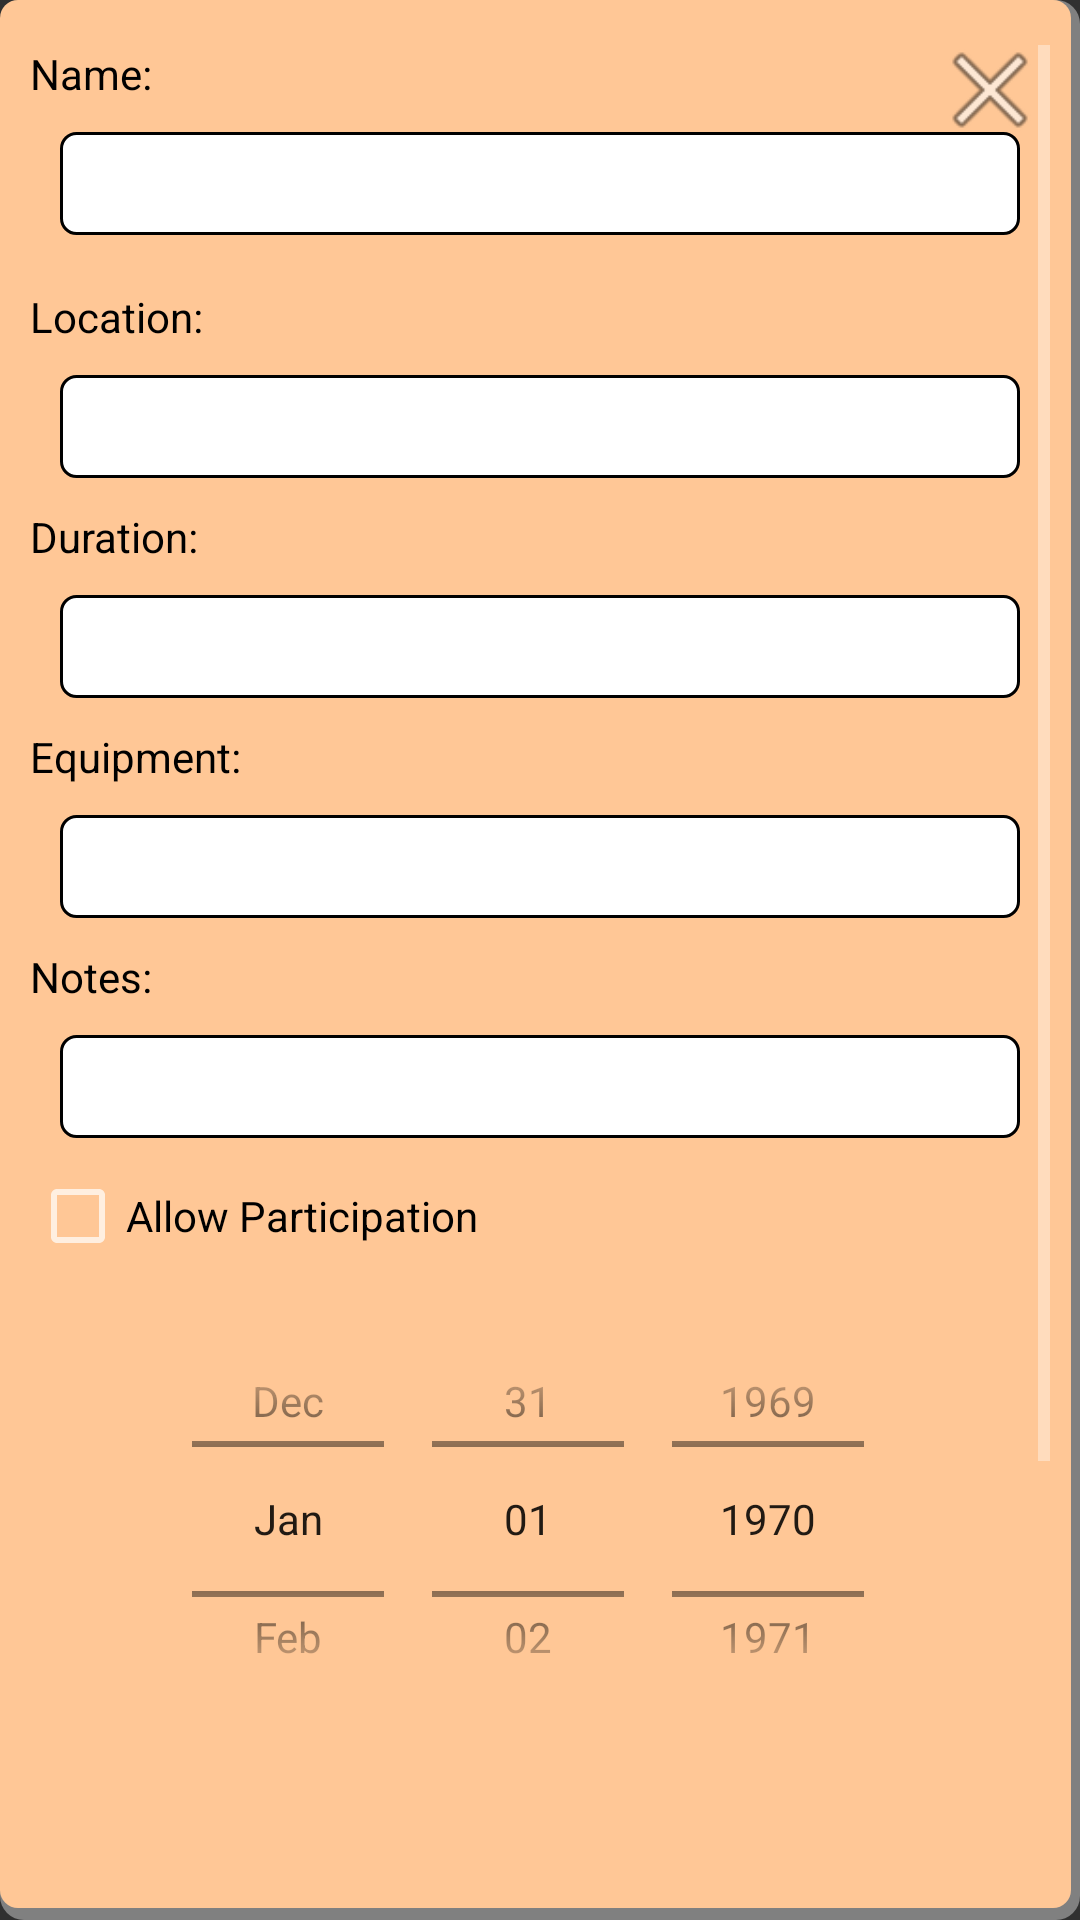

Icons on this 1080w x 1920h Android screen, each with the point to tap as point (x, y):
close clear cancel: point (990, 97)
